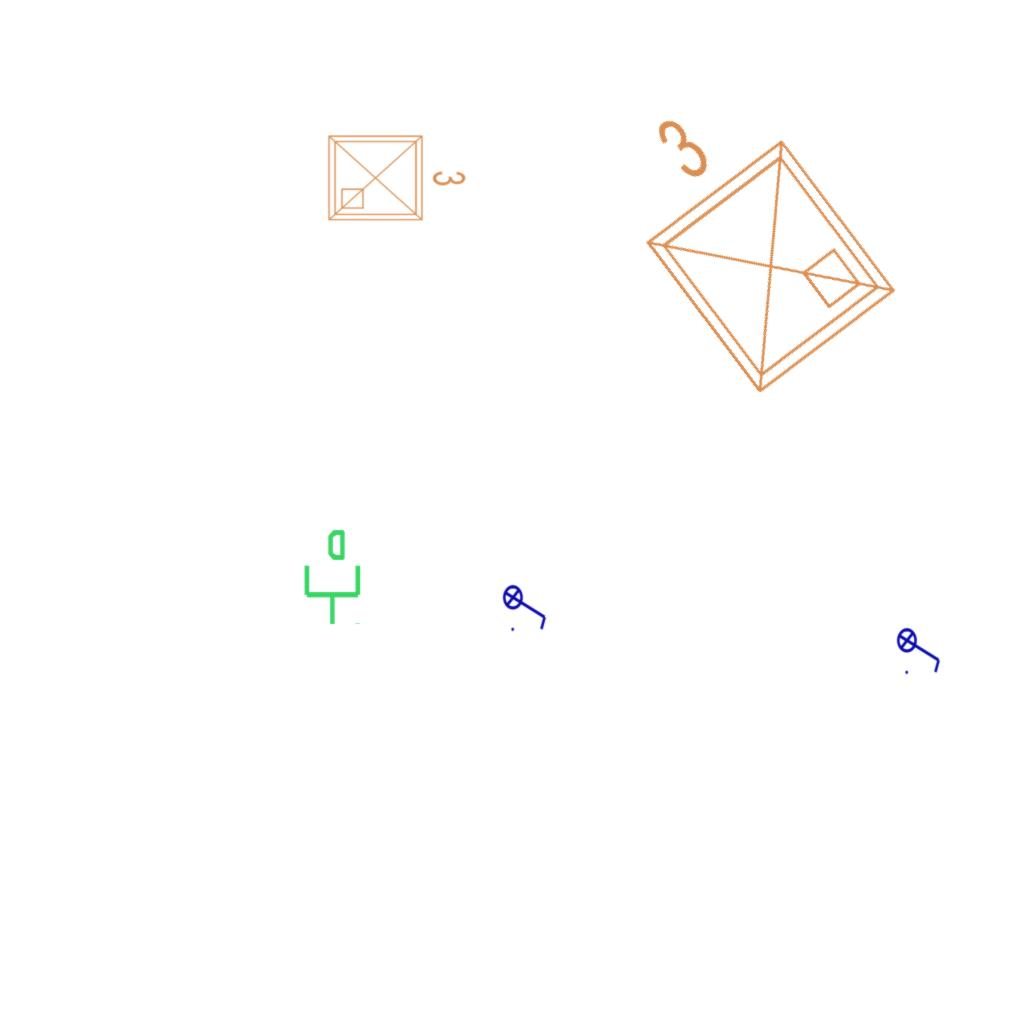Ausschalter_beleuchtet: (502, 578, 550, 634), (896, 621, 944, 677)
Datenanschluss_einfach: (296, 527, 365, 627)
Einbaudownlights_LED_Konferenzraeume: (569, 53, 917, 419), (321, 124, 471, 228)
